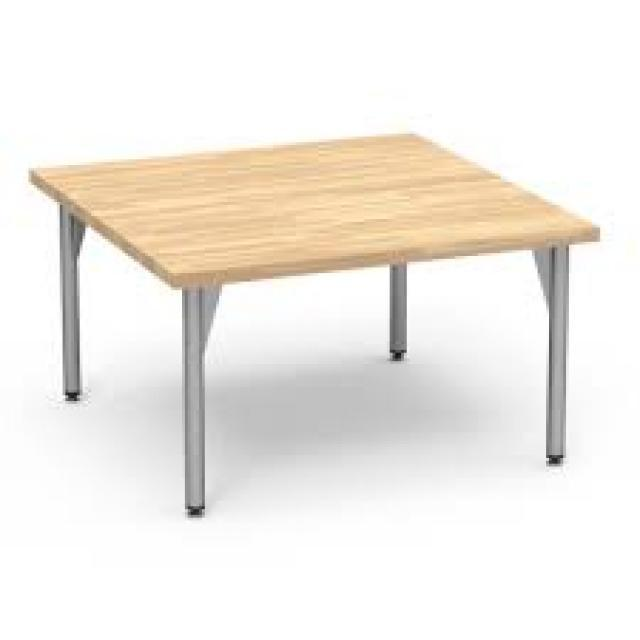mobile-phone: (29, 132, 598, 519)
